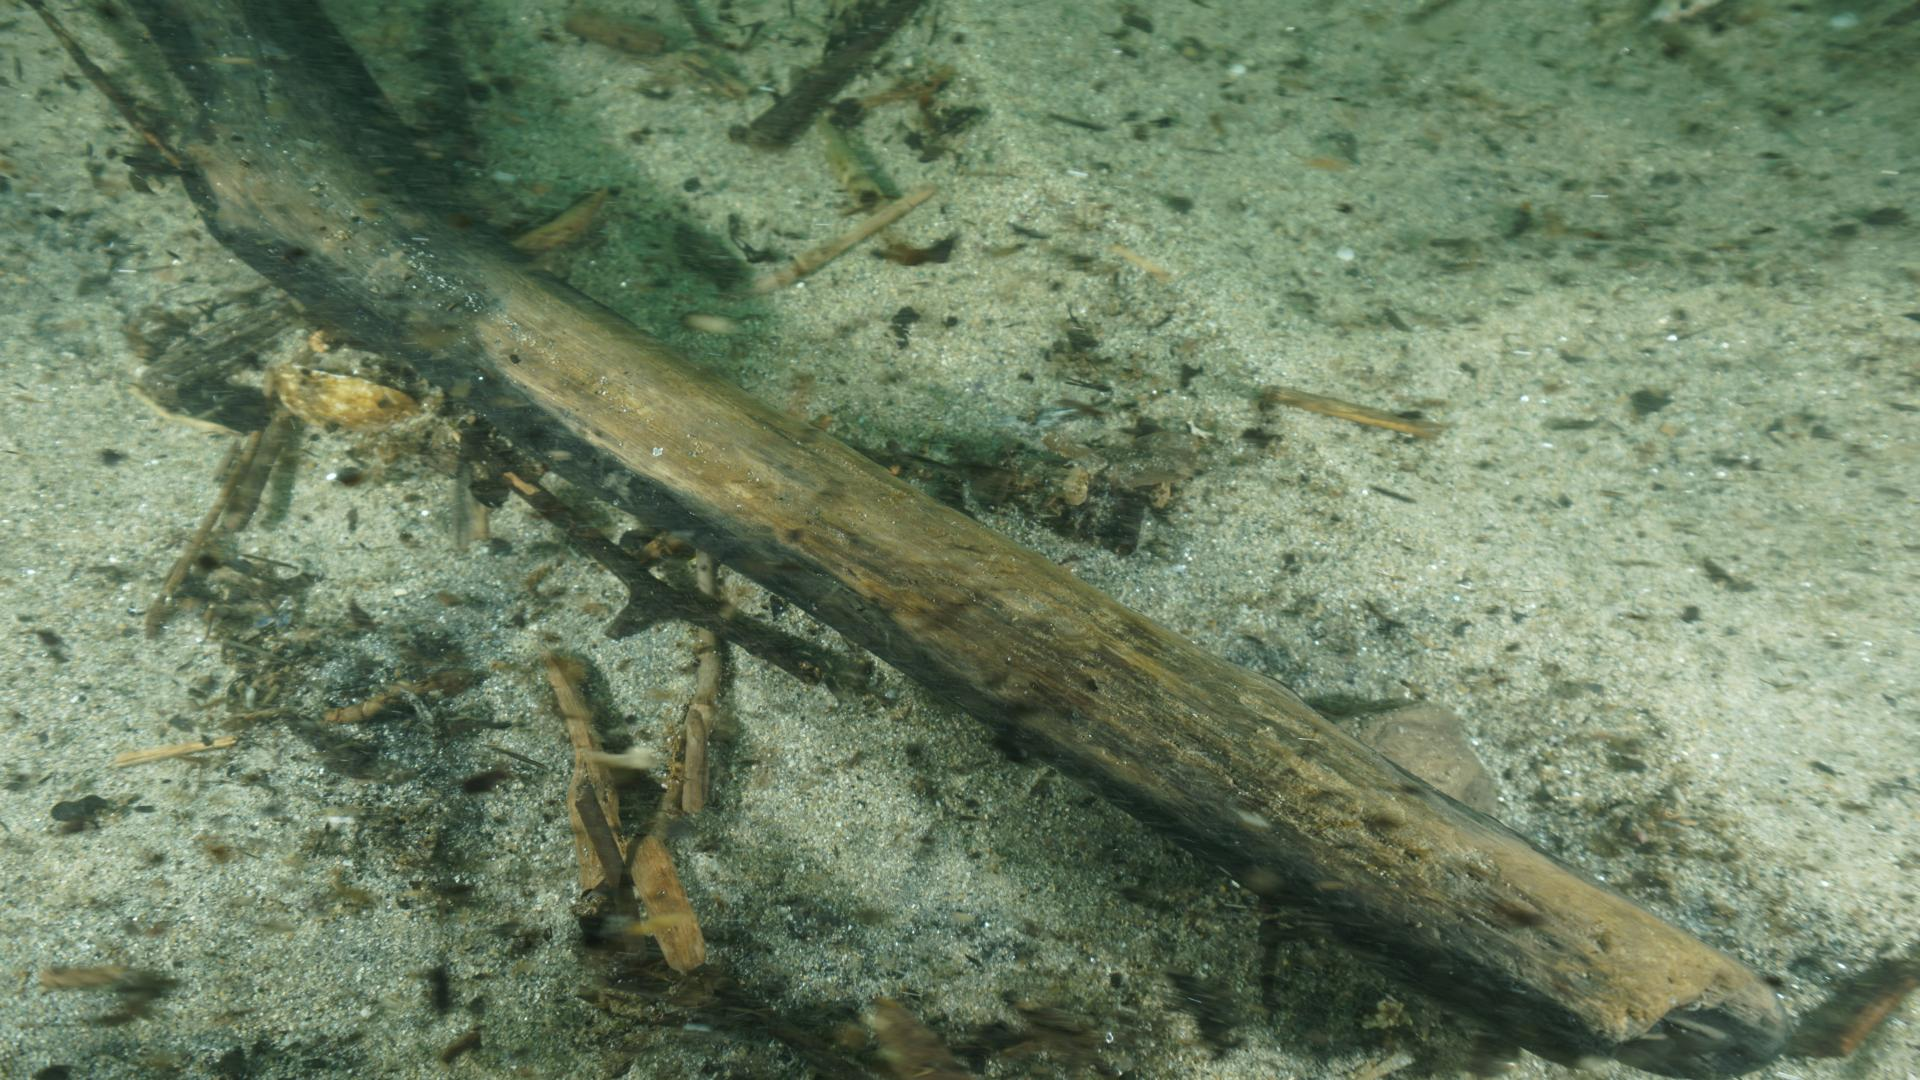wood: (30, 0, 1789, 1080)
